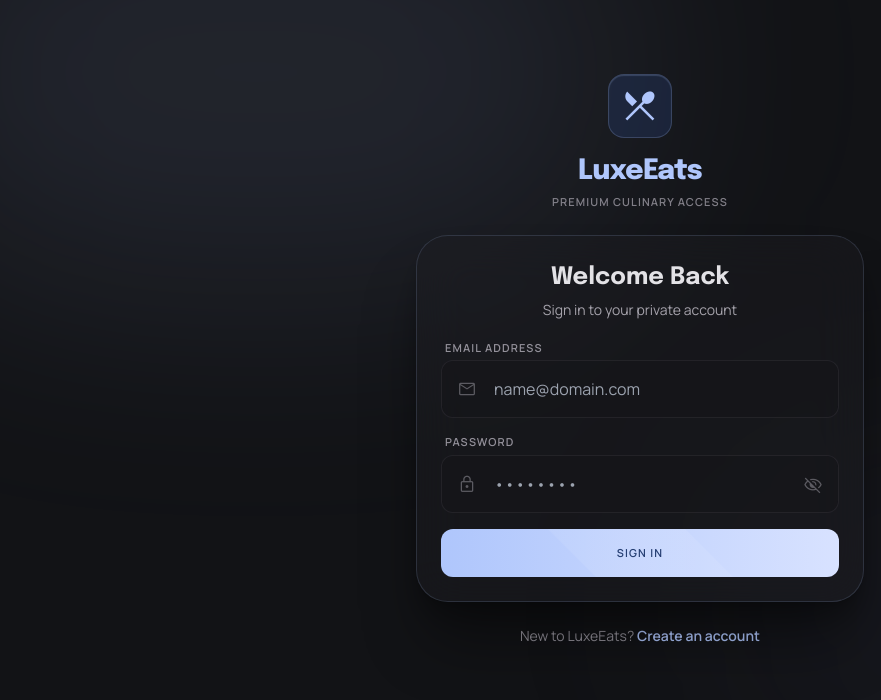
it: LoginPage — Error States › PADLOCK 3 — shows inactive message on HTTP 403 (unverified email)
Type "inactive@example.com" into the field labelled "EMAIL ADDRESS". click: (640, 389)
box: [441,360,839,418]
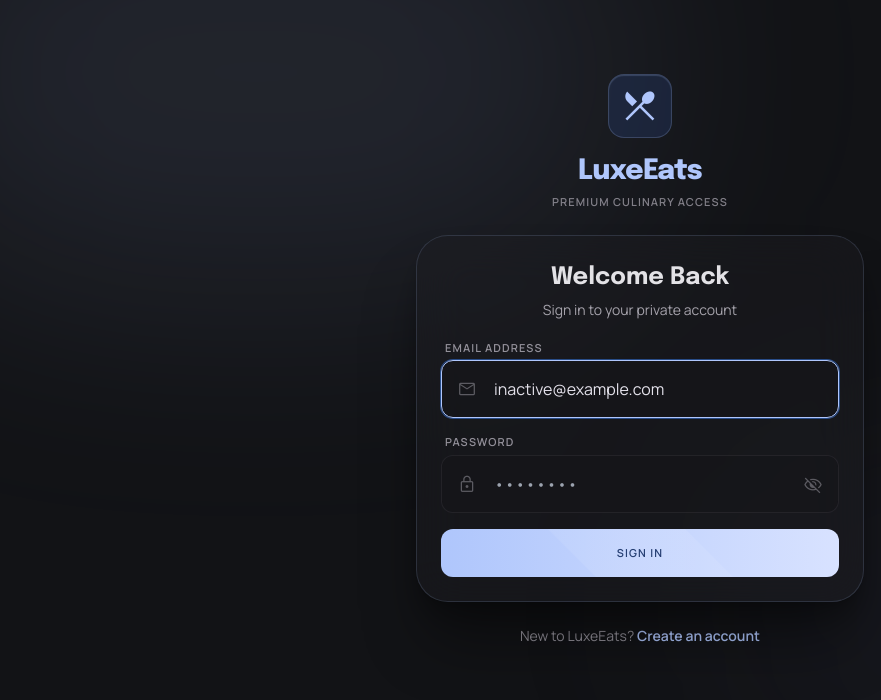
Type "Passw0rd!" into the password field labelled "PASSWORD". click: (640, 484)
box: [441,454,839,512]
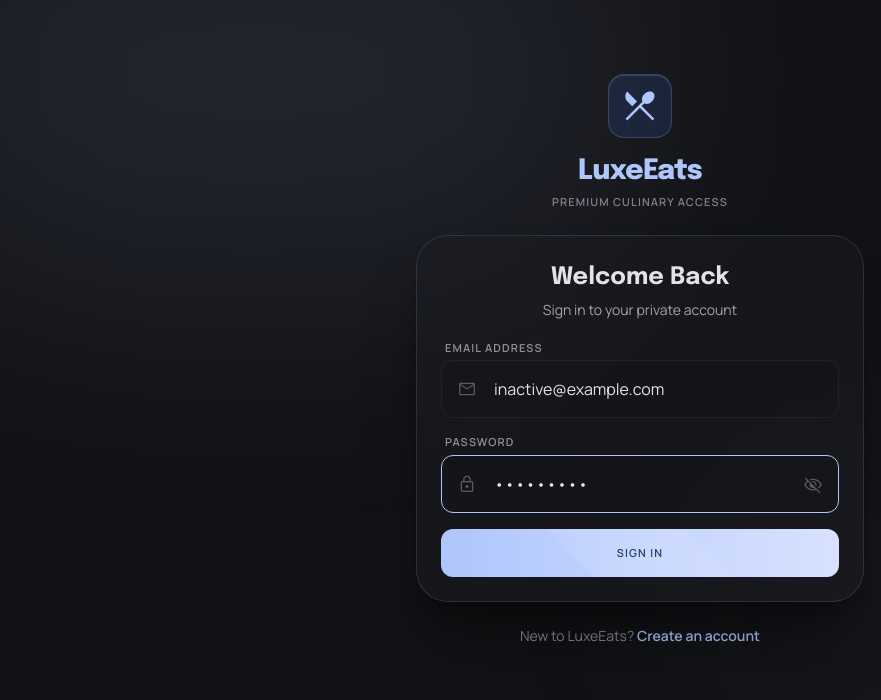
Click the button "SIGN IN". click: (640, 553)
box: [441,528,839,577]
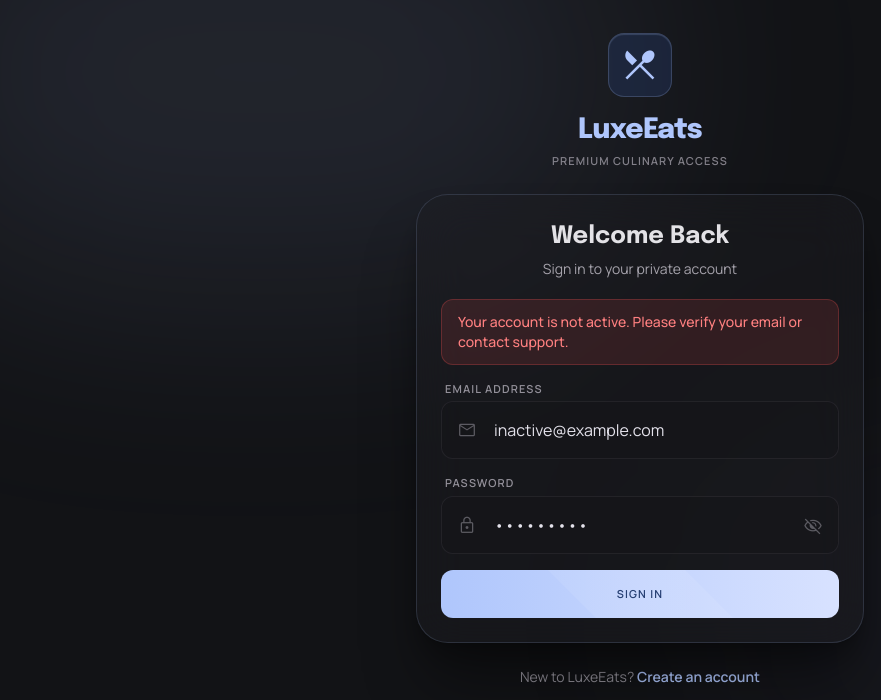
Expected: the message shows "not active", [458,312,802,350]
